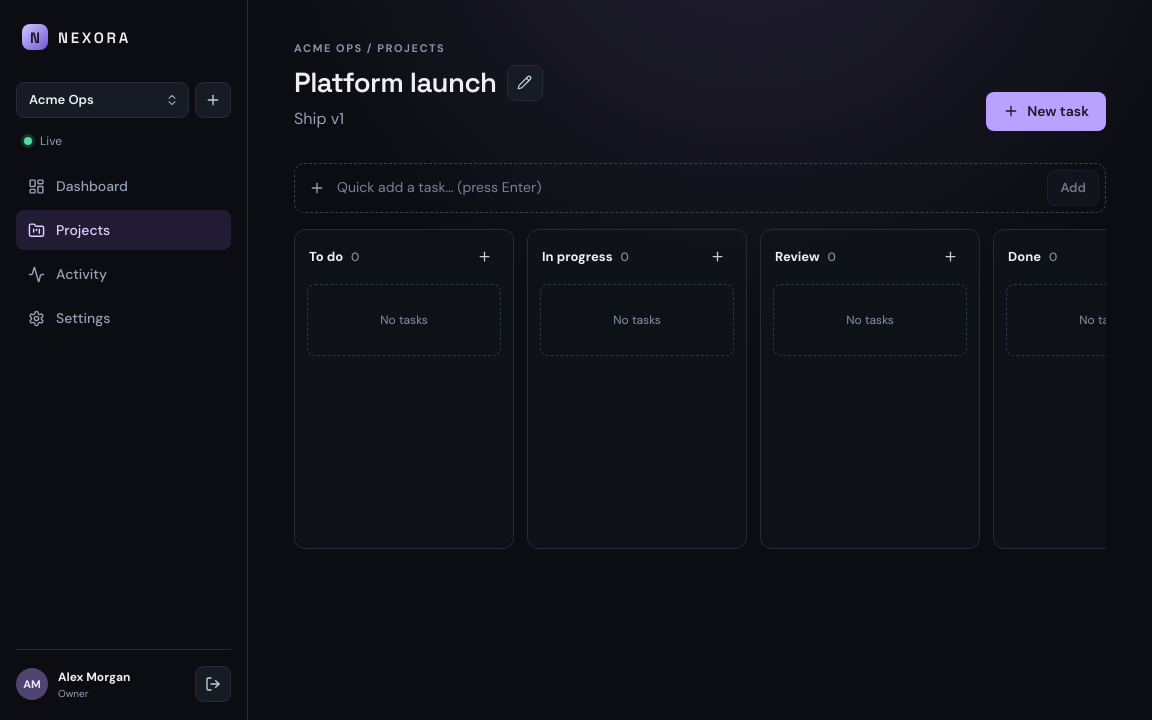
Test: BoardPage › quick-adds a task to To do
This screenshot has width=1152, height=720.
Type "Fast task" into the field named "Quick add a task to To do" at (686, 188), box [335,170,1037,204]
Then press Enter
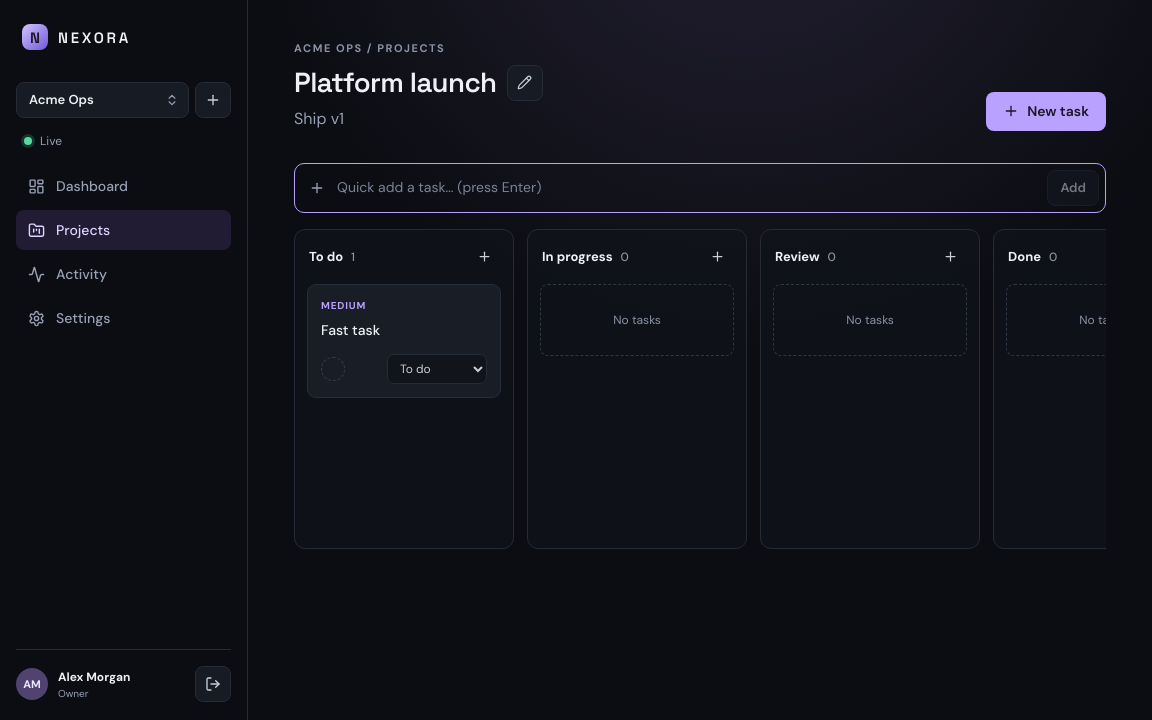
Check: the element "Fast task" is shown, box [307,284,501,398]
